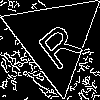R: (30, 14, 84, 73)
